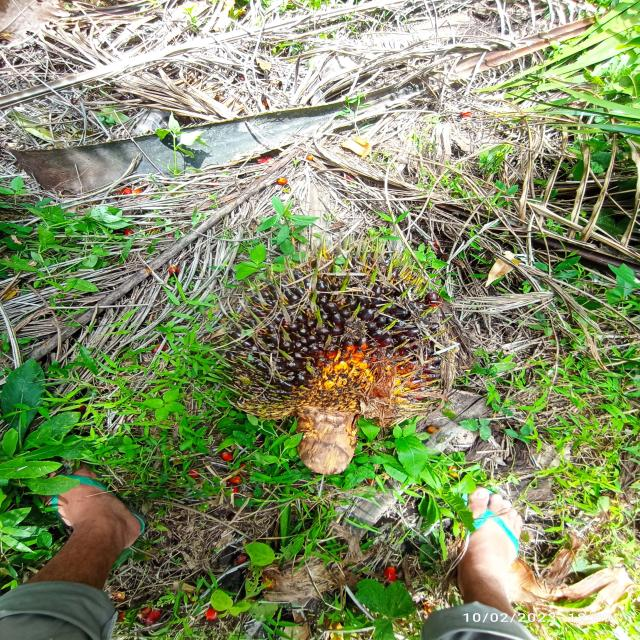fraksi 00: (193, 212, 484, 436)
